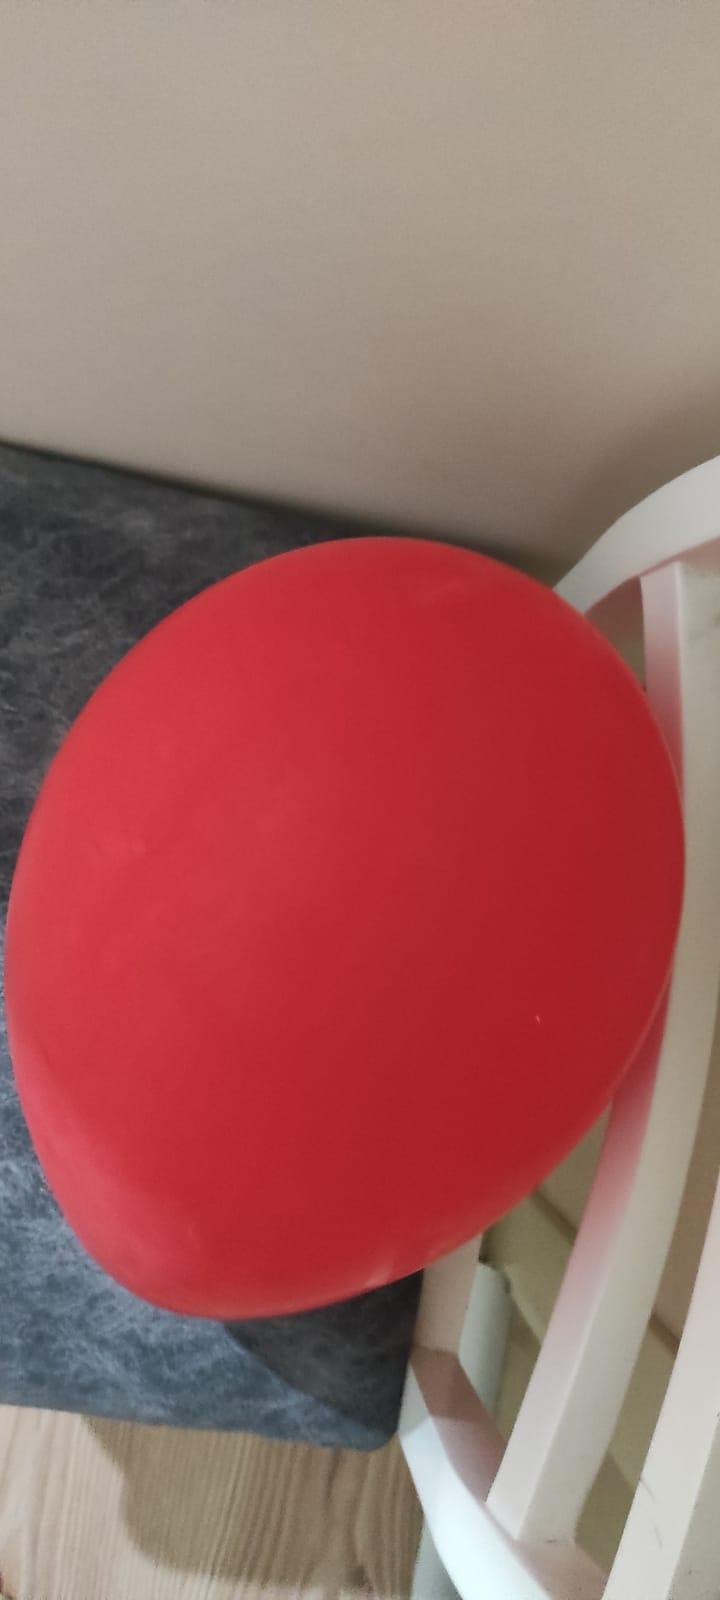red: (0, 520, 692, 1326)
